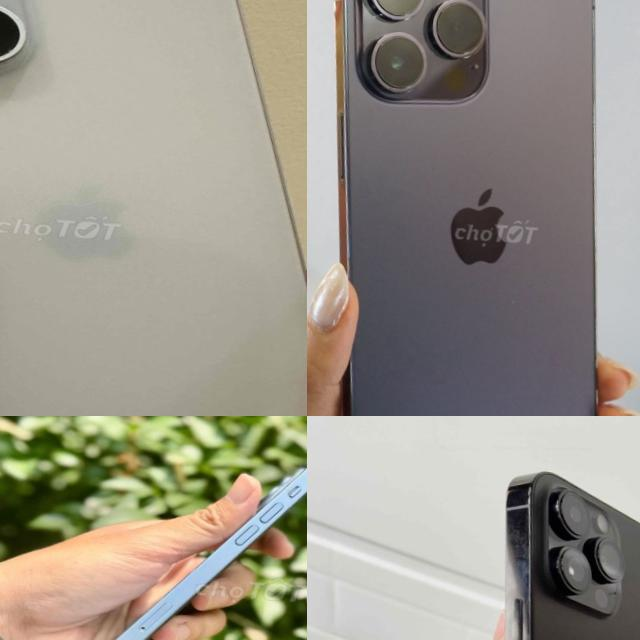gen_14: (307, 0, 640, 416), (75, 432, 307, 640), (461, 458, 640, 640)
gen_15: (0, 0, 307, 416)
